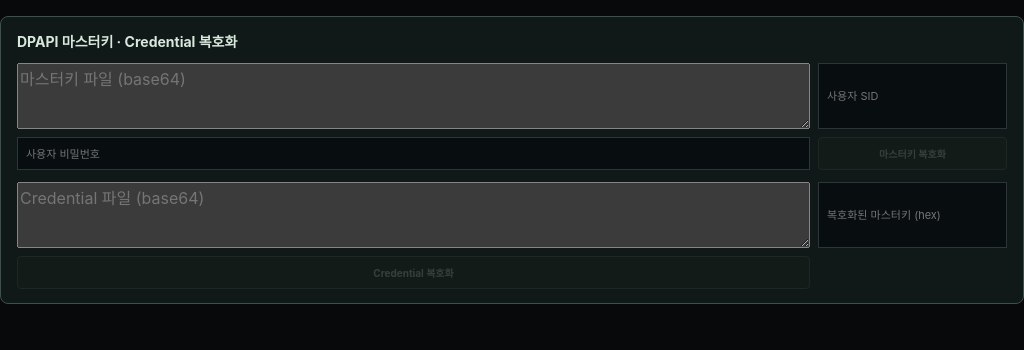
Test: decrypts a masterkey and offers to feed the key into the credential step
The width and height of the screenshot is (1024, 350).
In the text box labelled "마스터키 파일 (base64)": coordinates (414, 96) x1=17 y1=63 x2=810 y2=129, type "ZmFrZQ=="
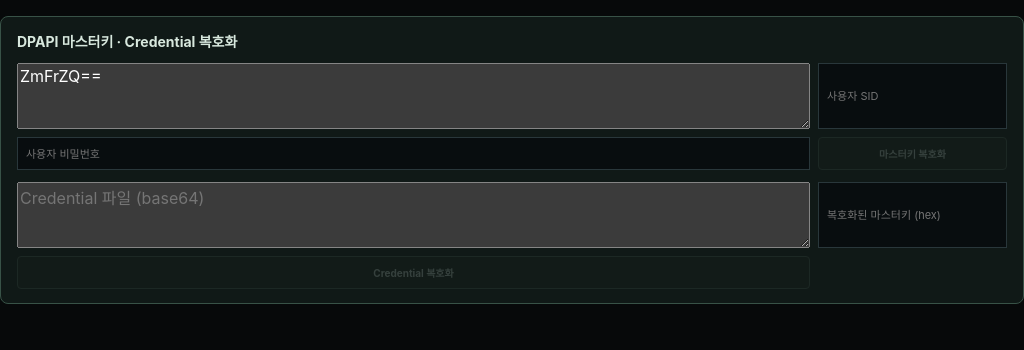
In the field labelled "사용자 SID": coordinates (912, 96) x1=818 y1=63 x2=1007 y2=129, type "S-1-5-21-1-2-3-1000"
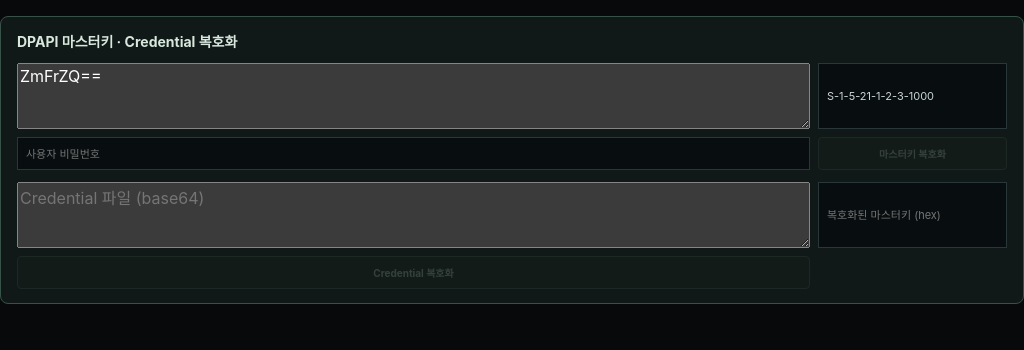
In the field named "마스터키용 비밀번호": coordinates (414, 154) x1=17 y1=137 x2=810 y2=170, type "hunter2"
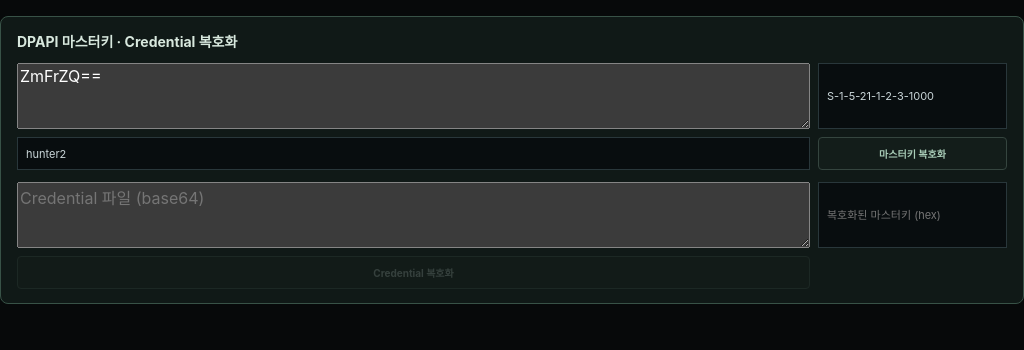
Click the button "마스터키 복호화": coordinates (912, 154) x1=818 y1=137 x2=1007 y2=170
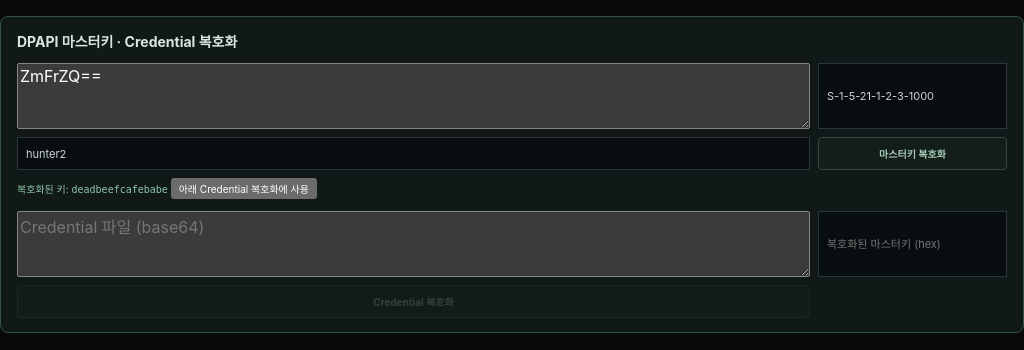
Expected: the text "deadbeefcafebabe" is shown, x1=72 y1=184 x2=168 y2=195
Click the button "아래 Credential 복호화에 사용": coordinates (244, 188) x1=171 y1=178 x2=317 y2=199
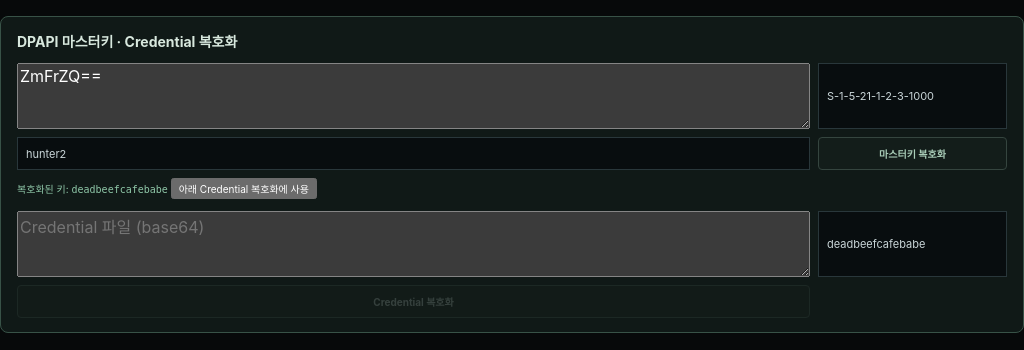
Expected: the field named "복호화된 마스터키 (hex)" holds "deadbeefcafebabe", x1=818 y1=211 x2=1007 y2=277
